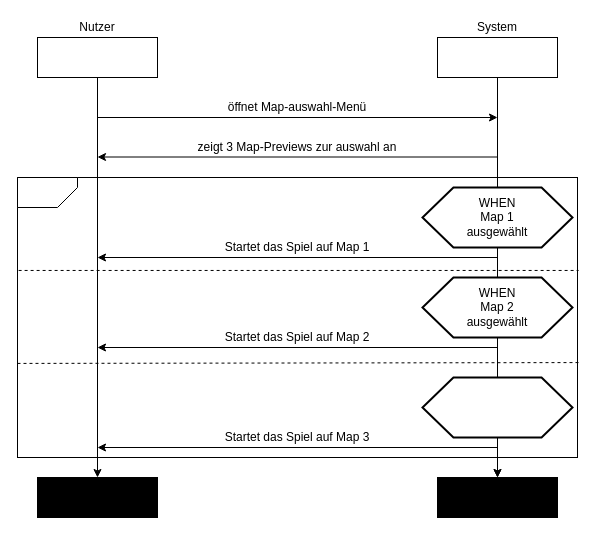
Some shapes in this 599 by 535 pixel diagram are drawn without their labels. The box of each missing label's shape, as (x1, y1, x2, y2) in pixels:
alt: (16, 176, 78, 208)
WHEN Map 3 ausgewählt: (421, 376, 573, 438)
